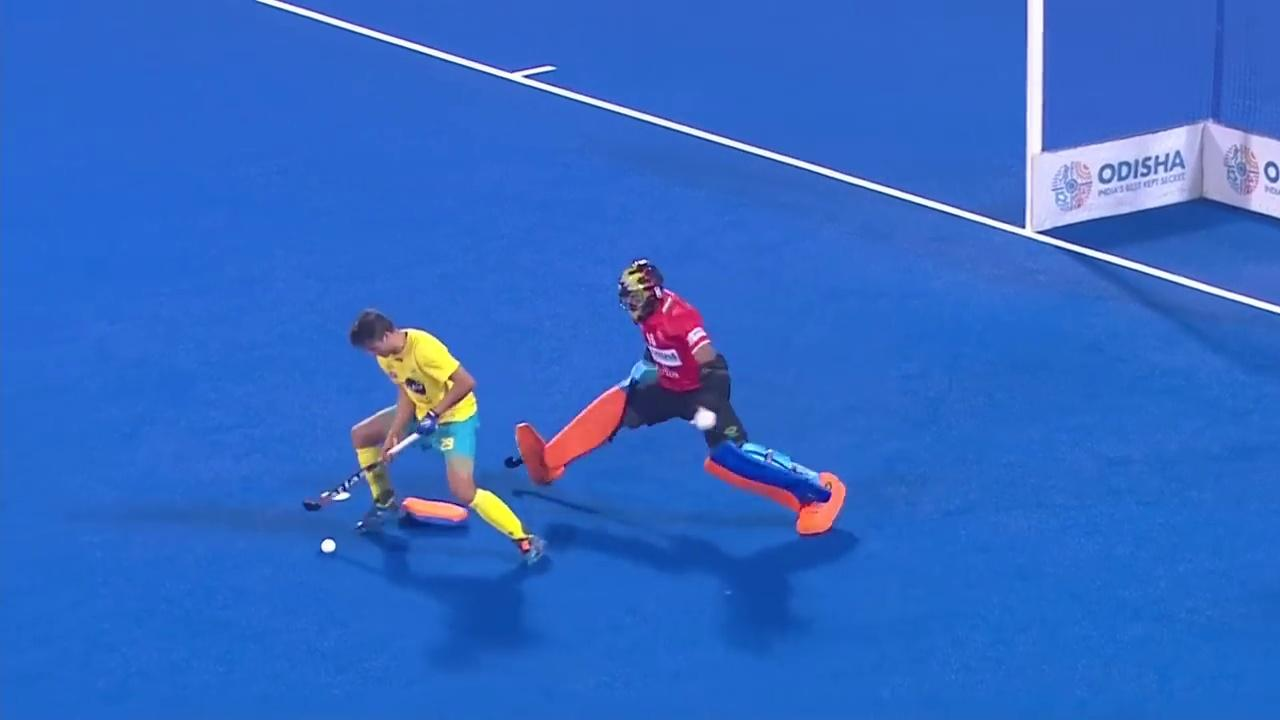ball: (304, 529, 364, 566)
